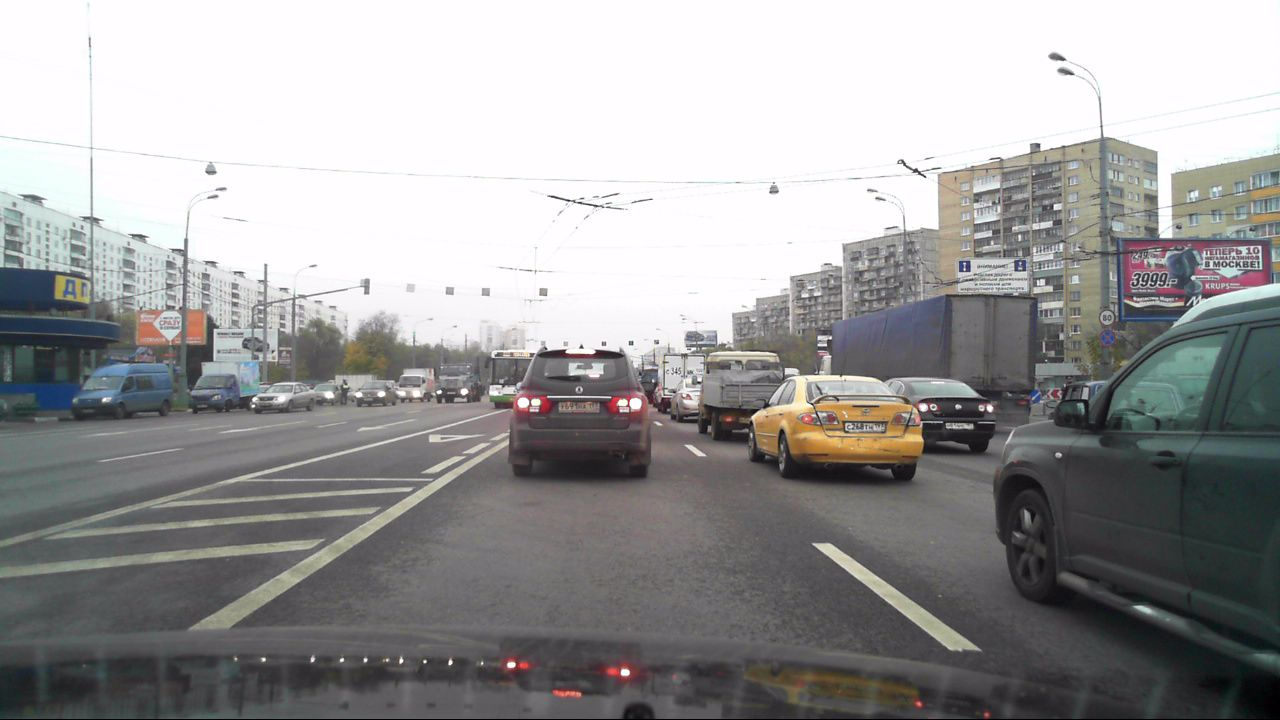No Parking: (1097, 330, 1114, 348)
